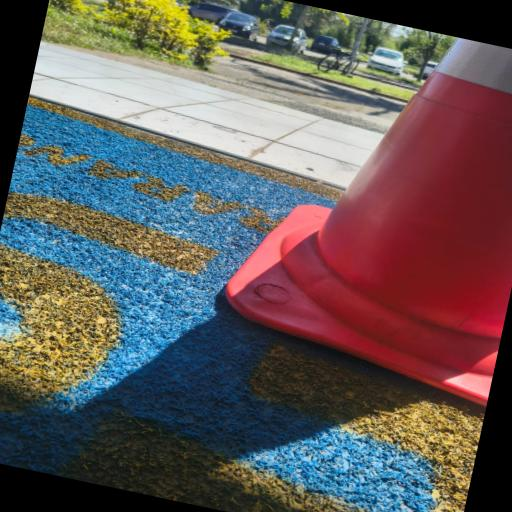cone: (309, 18, 512, 332)
